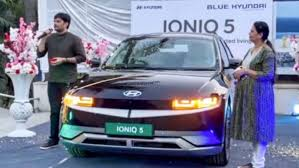Honda Ioniq: (60, 22, 237, 166)
